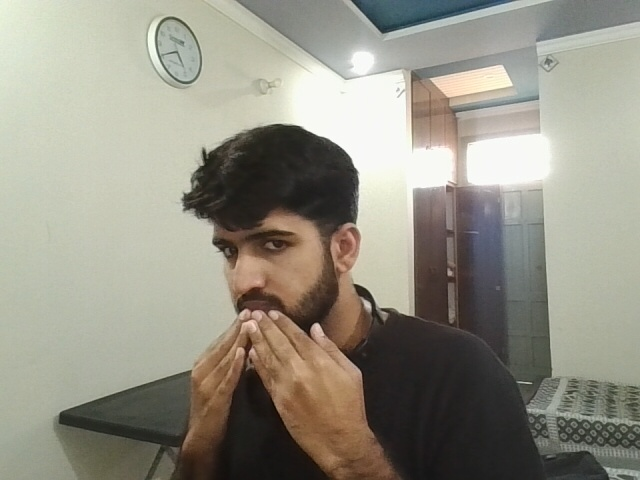Thanks: (89, 302, 448, 457)
